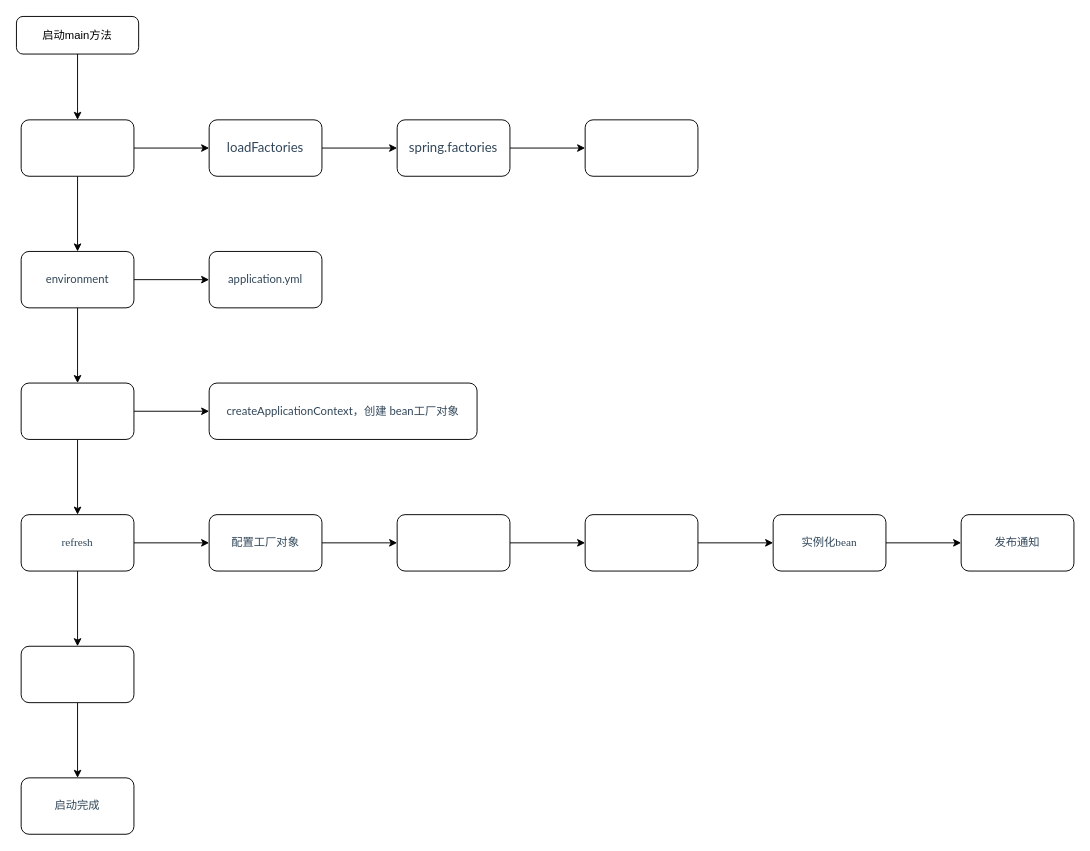
Image size: 1090x851. Some labels were removed from this diagram. Here are the shapes that lost their labels. From the top down, the centre of each, then its label:
At (77,147): "初始化配置".
At (641,147): "创建初始配置对象".
At (77,410): "创建应用程序上下文".
At (453,542): "注册并实例化bean工厂处理器".
At (641,542): "beanPostProcess".
At (77,674): "发布启动完成事件".
